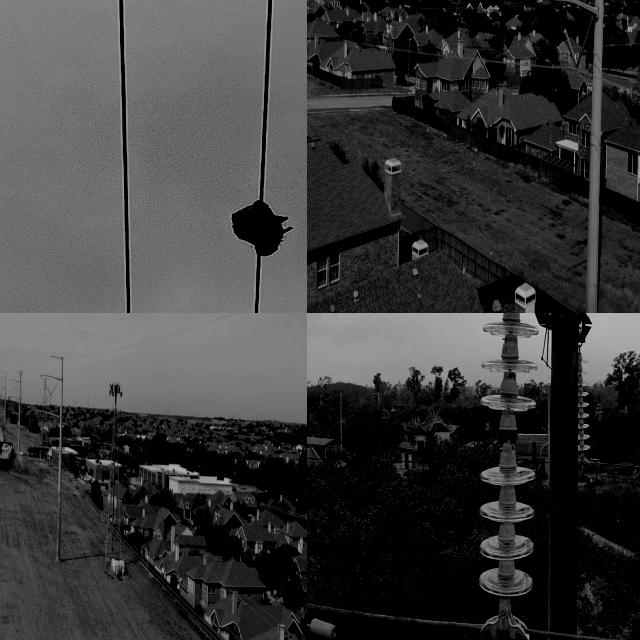杆塔: (103, 377, 129, 573), (39, 374, 53, 462)
植被遮挡: (219, 193, 295, 263)
正常电缆: (307, 589, 471, 635)
正常绝缘子: (477, 313, 539, 640), (558, 13, 580, 74), (571, 17, 592, 78)
绝缘子破损: (498, 421, 519, 457)
